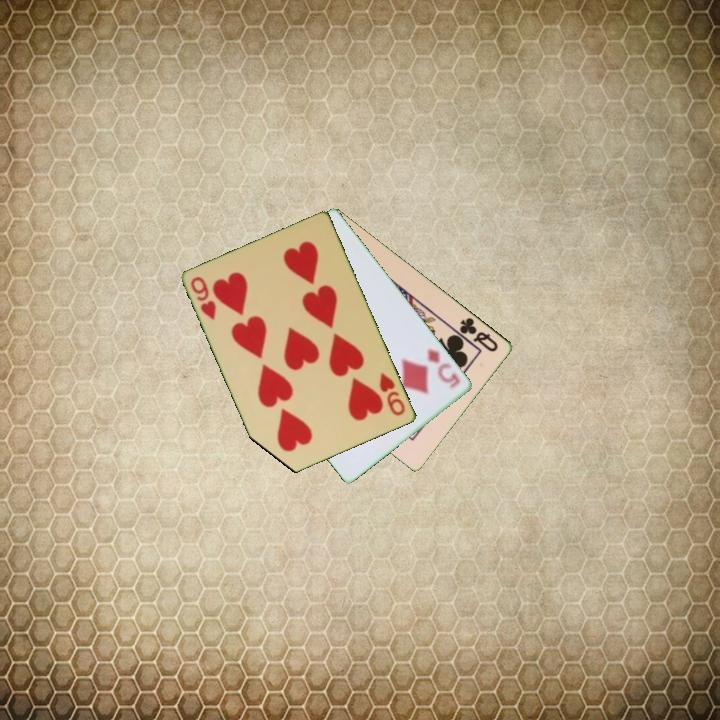5d: (424, 344, 463, 392)
9h: (376, 369, 408, 419), (187, 273, 219, 323)
Qc: (456, 314, 502, 355)
